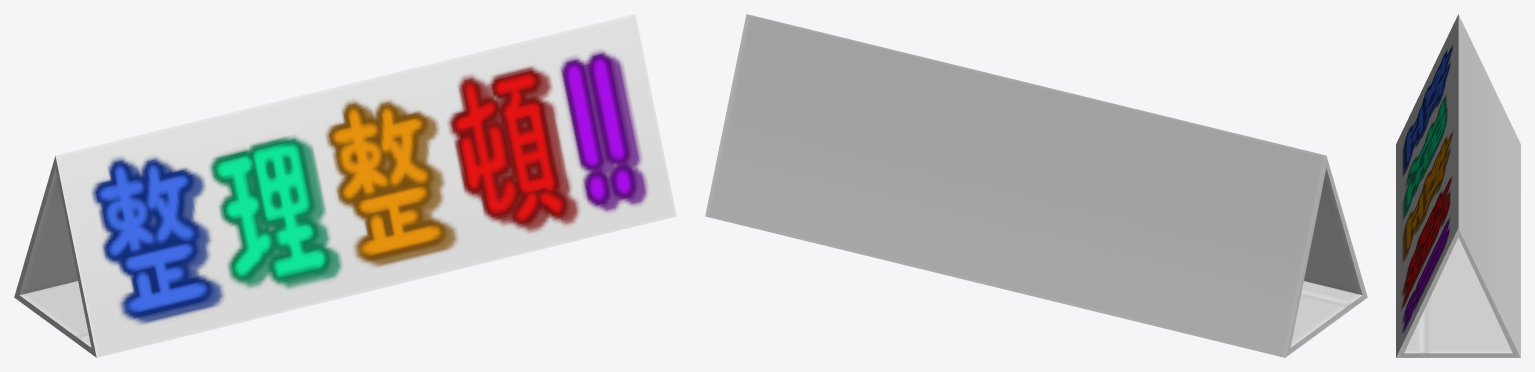
File: set_Precautionary_note_01.fbx
3 renders of one model, left to right at view 1: azimuth 30°, elevation 25°; view 2: azimuth 150°, elevation 25°; view 3: azimuth 270°, elevation 25°, orthographic. The views are drawn at different scales.
Parts seen in each view (by area): view 1: set_Precautionary_note_01; view 2: set_Precautionary_note_01; view 3: set_Precautionary_note_01.
Part boxes in pixels (x1,y1,x2,y2): set_Precautionary_note_01: [14, 14, 676, 357]; set_Precautionary_note_01: [705, 14, 1367, 357]; set_Precautionary_note_01: [1396, 14, 1520, 357].
Size of the model in its own units: 45.88 by 13.02 by 11.32.
